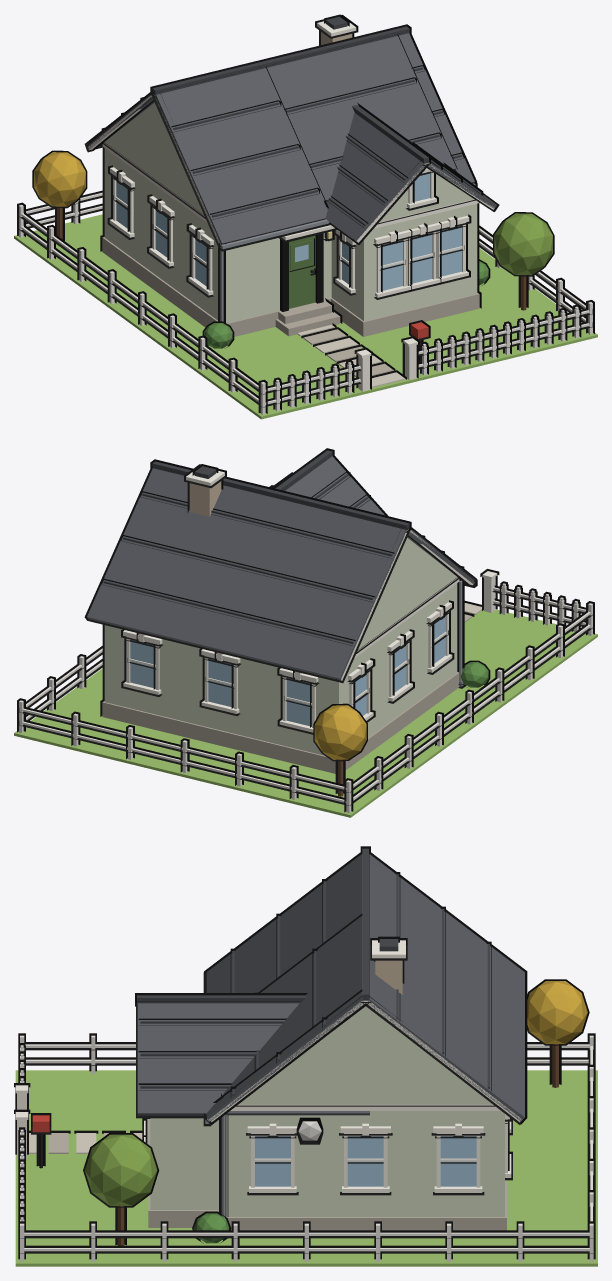
The model's file is MustakilEv_avrupa_2_3.fbx.
3 renders of one model, top to bottom at view 1: azimuth 30°, elevation 25°; view 2: azimuth 150°, elevation 25°; view 3: azimuth 270°, elevation 25°, orthographic. The views are drawn at different scales.
Visible parts, largest first — view 1: MustakilEv_avrupa_2_3; view 2: MustakilEv_avrupa_2_3; view 3: MustakilEv_avrupa_2_3.
Boxes of the visible parts, x1,y1,x2,y2 form: MustakilEv_avrupa_2_3: (14, 14, 597, 419); MustakilEv_avrupa_2_3: (14, 448, 597, 817); MustakilEv_avrupa_2_3: (14, 846, 597, 1266).
Bounding box in the file's own units: 10.83 × 6.96 × 13.81.
